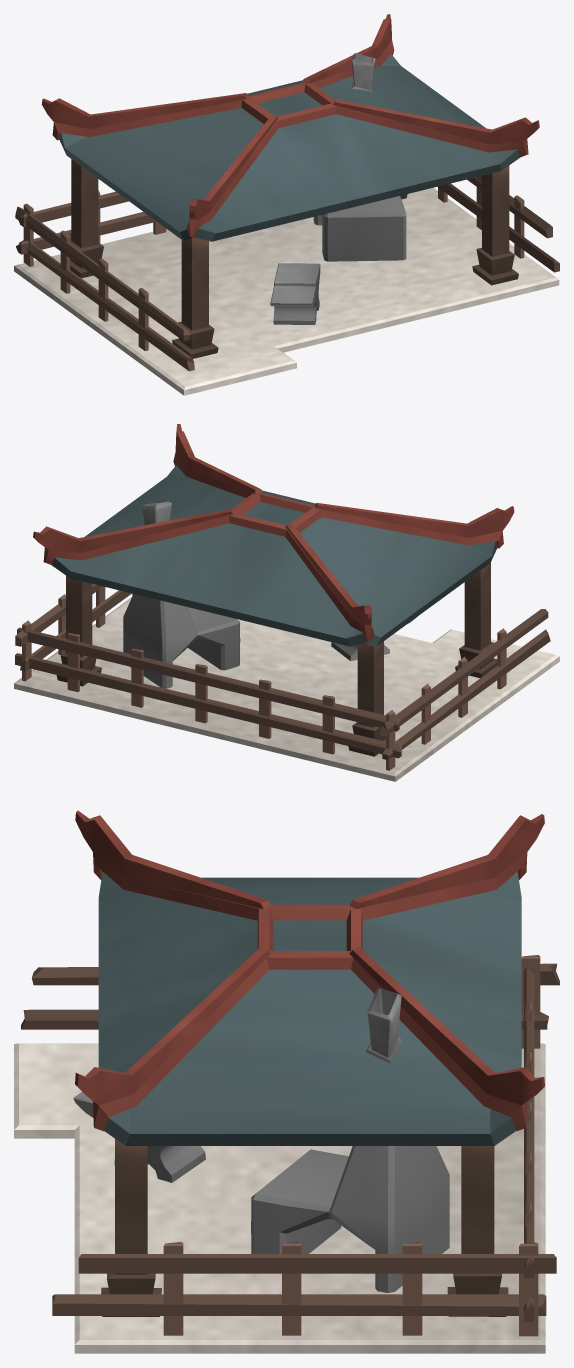
The model's file is blacksmith_1lvl_color.fbx.
The picture shows the model from 3 angles, top to bottom: view 1: azimuth 30°, elevation 25°; view 2: azimuth 150°, elevation 25°; view 3: azimuth 270°, elevation 25°; orthographic projection. The views are drawn at different scales.
Parts seen in each view (by area): view 1: blacksmith_1lvl1_color; view 2: blacksmith_1lvl1_color; view 3: blacksmith_1lvl1_color.
Boxes of the visible parts, x1,y1,x2,y2 form: blacksmith_1lvl1_color: (14, 14, 559, 395); blacksmith_1lvl1_color: (14, 424, 559, 781); blacksmith_1lvl1_color: (14, 810, 559, 1353).
Bounding box in the file's own units: 6.07 × 2.64 × 4.6.
